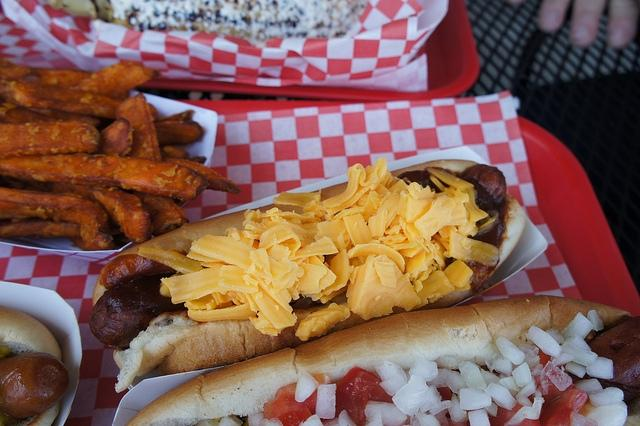onion: (373, 359, 408, 397), (525, 326, 563, 358), (426, 368, 470, 395), (364, 401, 408, 426), (587, 400, 628, 426), (392, 382, 422, 416), (484, 382, 517, 411), (560, 342, 598, 367), (560, 312, 593, 340), (550, 388, 588, 412), (458, 361, 488, 391), (496, 336, 524, 365), (295, 369, 318, 402), (316, 383, 336, 419), (408, 358, 438, 382), (448, 393, 469, 425), (420, 384, 442, 414), (586, 356, 614, 379), (589, 388, 623, 406), (572, 378, 604, 396), (410, 408, 440, 426), (516, 376, 538, 400), (512, 362, 532, 388), (486, 358, 514, 376), (562, 334, 592, 350), (523, 398, 544, 420), (569, 410, 598, 424), (481, 368, 501, 388), (468, 409, 490, 426), (429, 400, 452, 416), (587, 310, 604, 331), (544, 327, 564, 344), (566, 361, 586, 378), (500, 376, 520, 392), (550, 353, 574, 366), (300, 414, 324, 426), (338, 410, 356, 426), (218, 416, 240, 426), (248, 412, 264, 425), (260, 418, 284, 426), (498, 374, 508, 380)
